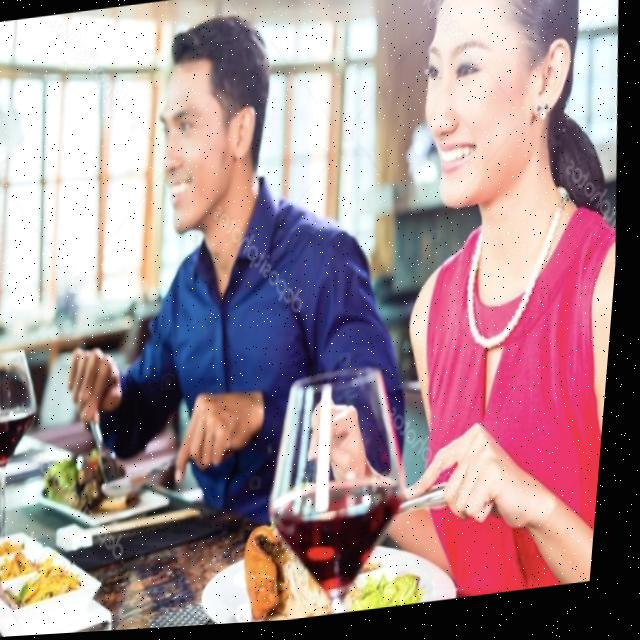eating-person: (5, 0, 451, 578), (243, 0, 640, 627)
